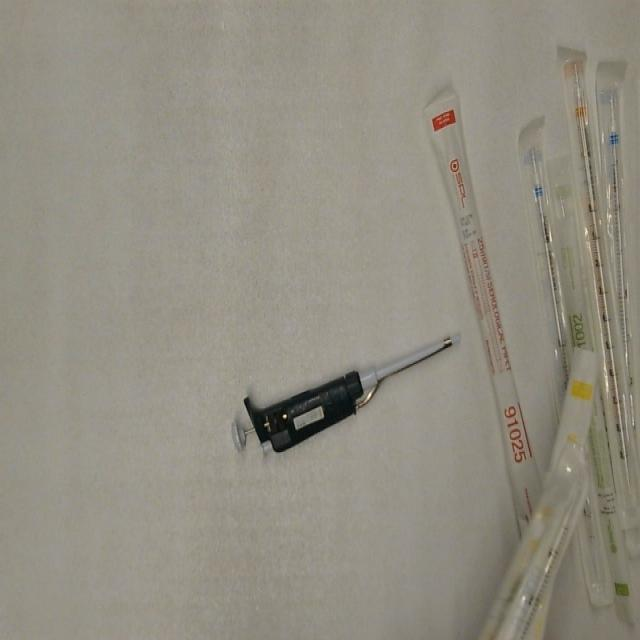Serelogical Pipet 1 mL: (486, 434, 589, 640), (548, 345, 600, 482)
Serelogical Pipet 10 mL: (559, 52, 639, 532)
Serelogical Pipet 2 mL: (548, 152, 636, 625)
Serelogical Pipet 5 mL: (513, 114, 616, 610), (597, 55, 635, 404)
Single Channel Pipettor: (422, 88, 542, 517), (227, 328, 464, 461)
